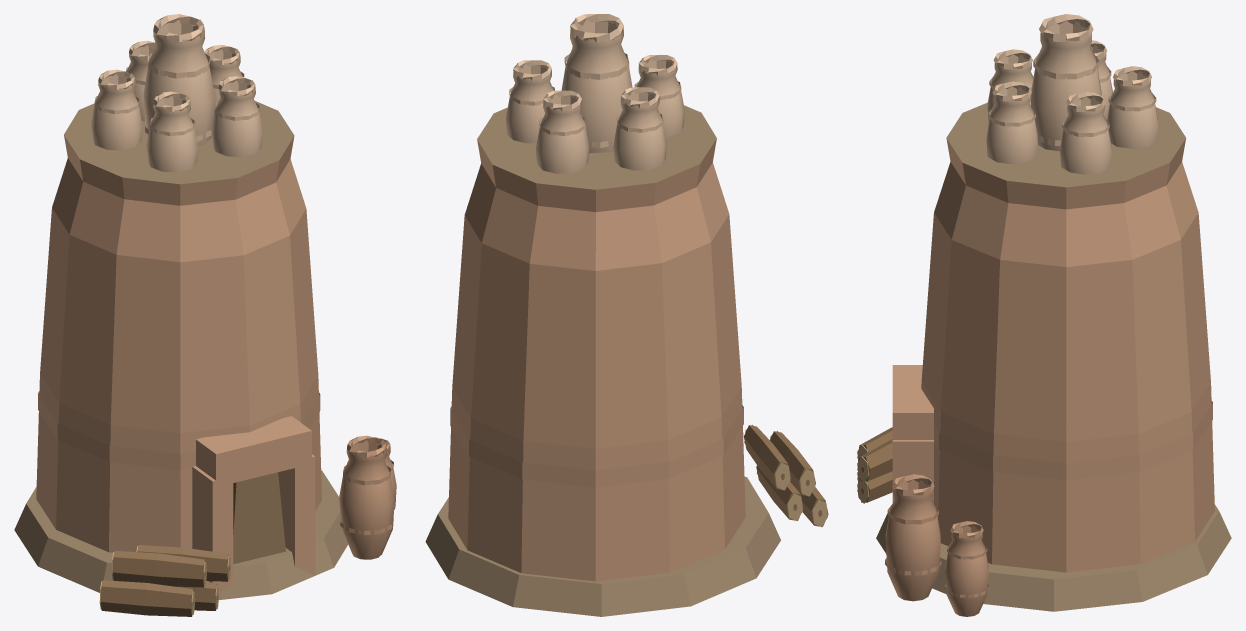
File: building_kiln_complete.glb
3 views of the same model, side by side, from view 1: azimuth 30°, elevation 25°; view 2: azimuth 150°, elevation 25°; view 3: azimuth 270°, elevation 25° (orthographic). The views are drawn at different scales.
Visible parts, largest first — view 1: building_kiln_complete; view 2: building_kiln_complete; view 3: building_kiln_complete.
Boxes of the visible parts, bbox=[...] form: building_kiln_complete: bbox=[14, 14, 396, 616]; building_kiln_complete: bbox=[425, 14, 828, 616]; building_kiln_complete: bbox=[857, 14, 1231, 616].
Bounding box in the file's own units: 1 × 1.52 × 1.
